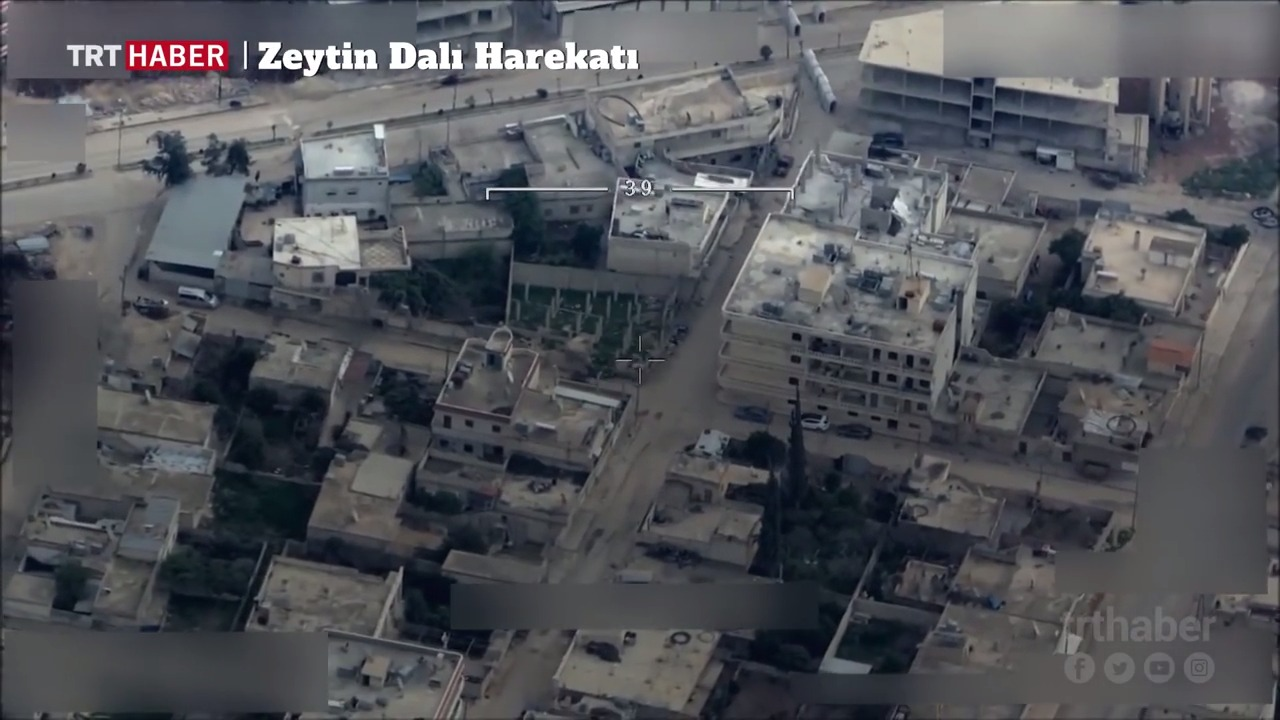arac: (834, 404, 880, 439), (172, 280, 229, 307), (767, 142, 802, 182), (795, 402, 835, 428), (735, 402, 780, 424)
bina: (412, 332, 637, 496), (258, 206, 429, 339), (137, 149, 269, 297)
